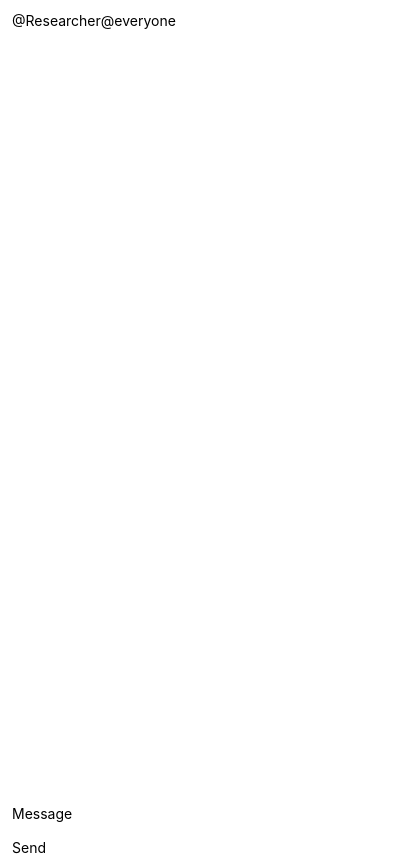
Test: Composer mentions › puts a space before a tag added after other text, and limits the length it is told to
In the text box labelled "Message": (110, 822) [12,805,207,839], type "hey"
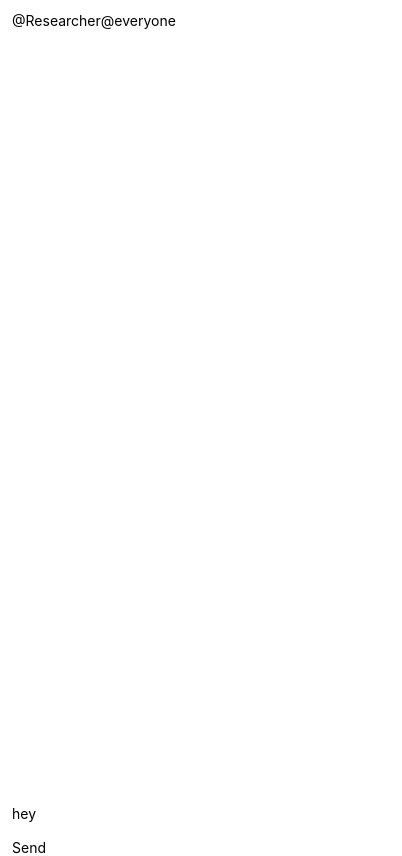
Click the button with aria-label "Mention everyone": (138, 408) [101,12,176,805]
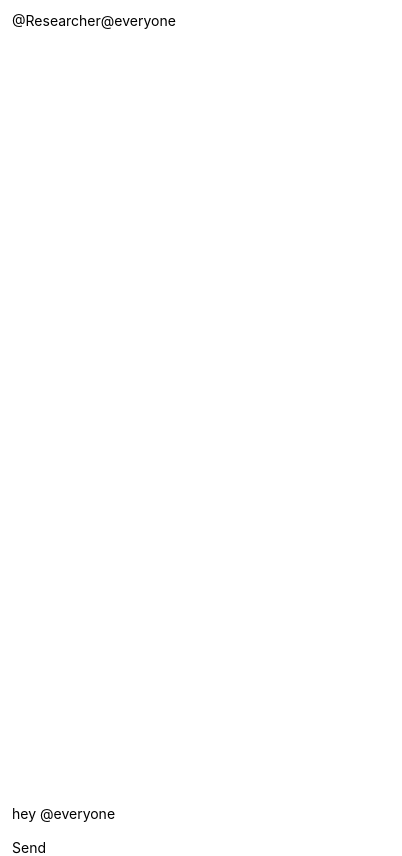
Now the text box named "Message" holds "hey @everyone ", box [12,805,207,839]
